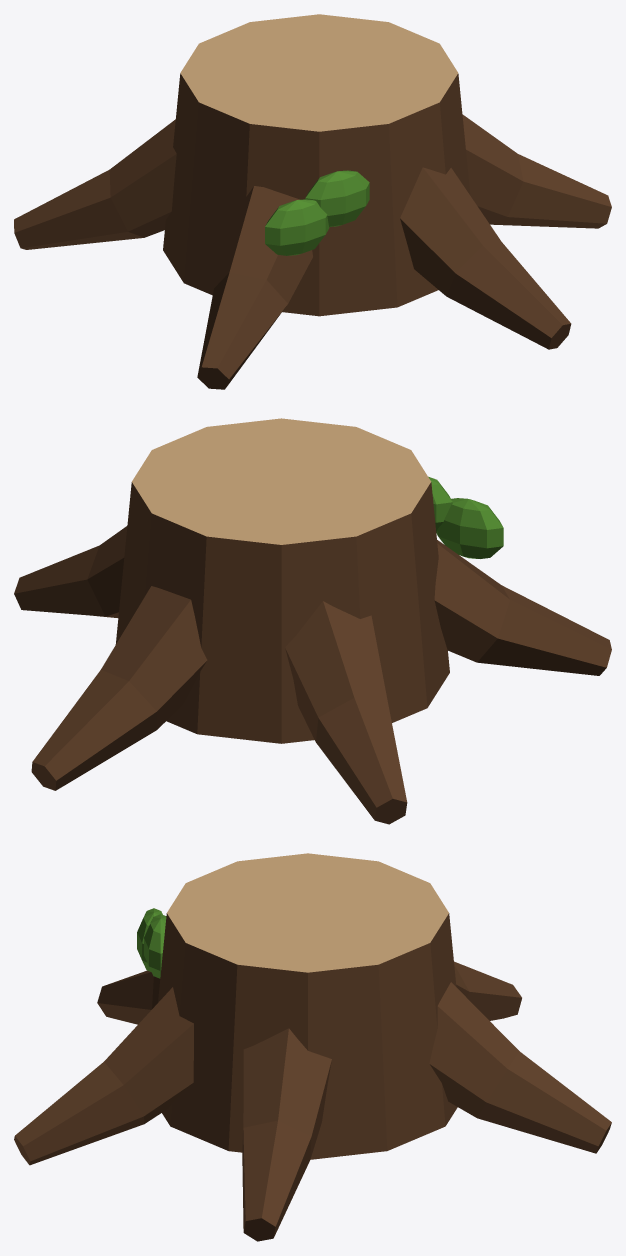
File: Tree_Stump.fbx
3 renders of one model, top to bottom at view 1: azimuth 30°, elevation 25°; view 2: azimuth 150°, elevation 25°; view 3: azimuth 270°, elevation 25°, orthographic. The views are drawn at different scales.
Parts seen in each view (by area): view 1: Tree_Stump.001; view 2: Tree_Stump.001; view 3: Tree_Stump.001.
Part boxes in pixels (box(x1,y1,x2,y2)): Tree_Stump.001: box(14, 14, 611, 389); Tree_Stump.001: box(14, 418, 611, 824); Tree_Stump.001: box(14, 853, 611, 1241).
Bounding box in the file's own units: 1.27 × 0.5071 × 1.36.
